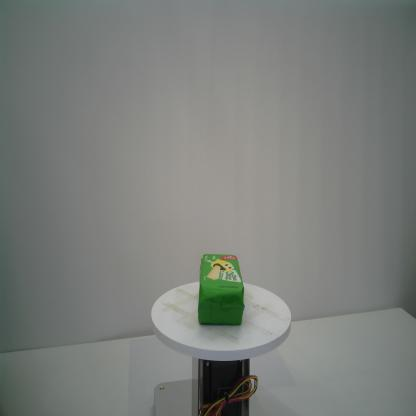Dessert: (197, 253, 246, 325)
